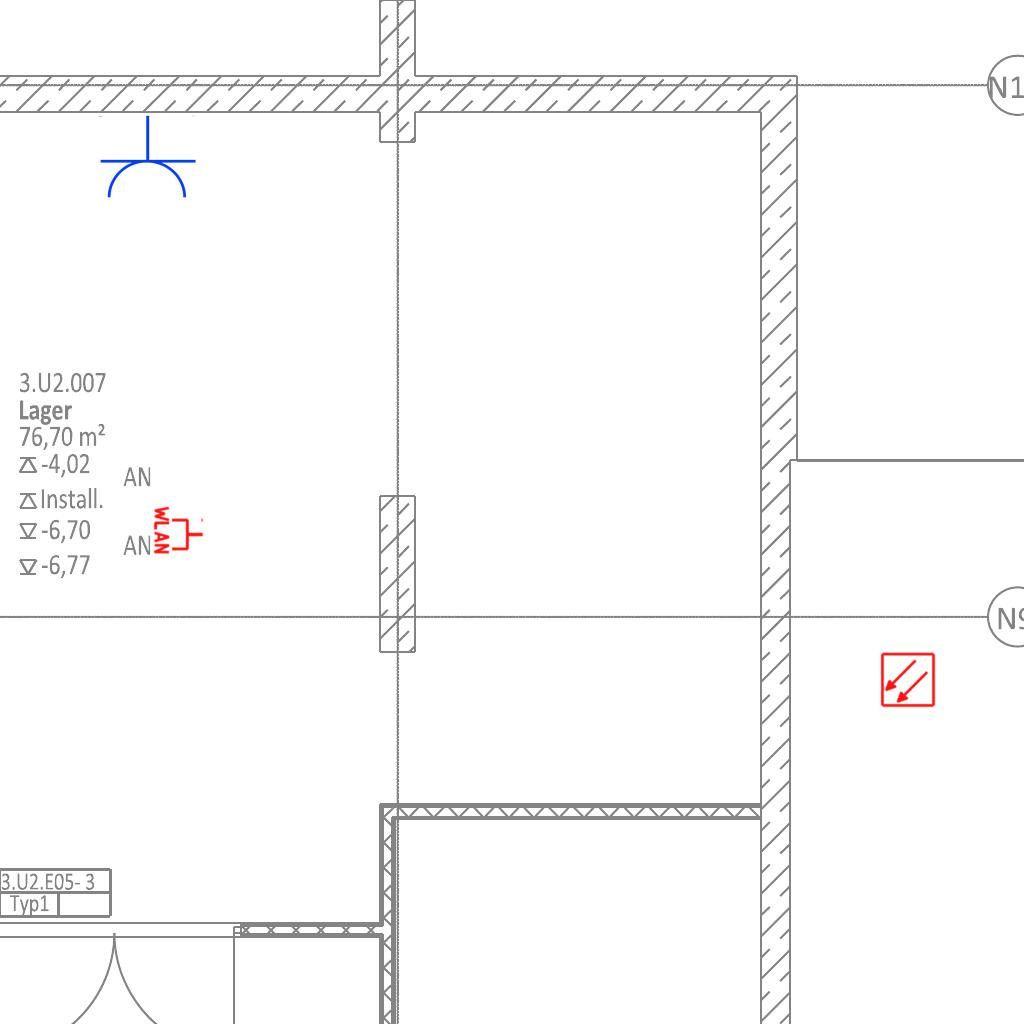RMO_Rauchmelder_optischer: (880, 652, 936, 708)
Schukosteckdose_einfach: (97, 115, 197, 202)
WLAN: (153, 504, 205, 556)
